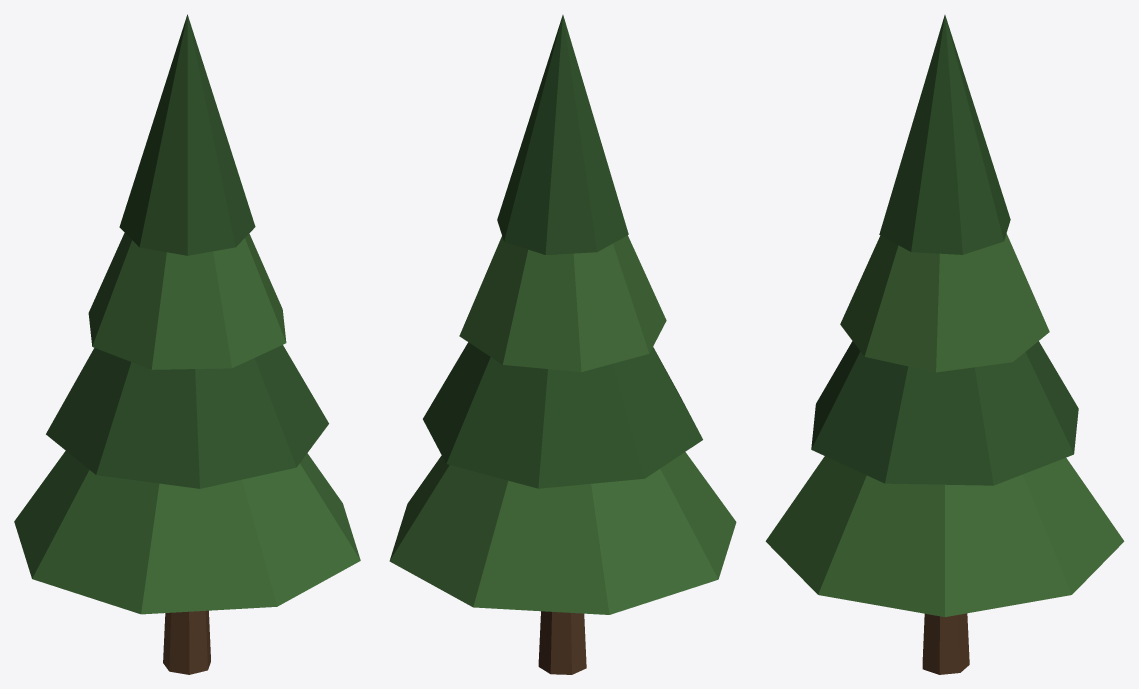
The model's file is tree_pine.glb.
The picture shows the model from 3 angles, left to right: view 1: azimuth 30°, elevation 25°; view 2: azimuth 150°, elevation 25°; view 3: azimuth 270°, elevation 25°; orthographic projection.
Visible parts, largest first — view 1: tree_pine; view 2: tree_pine; view 3: tree_pine.
Part boxes in pixels (left/top/right/bottom): tree_pine: left=14, top=14, right=360, bottom=674; tree_pine: left=389, top=15, right=736, bottom=674; tree_pine: left=765, top=15, right=1124, bottom=674.
Bounding box in the file's own units: 2.9 × 5.8 × 2.9.
